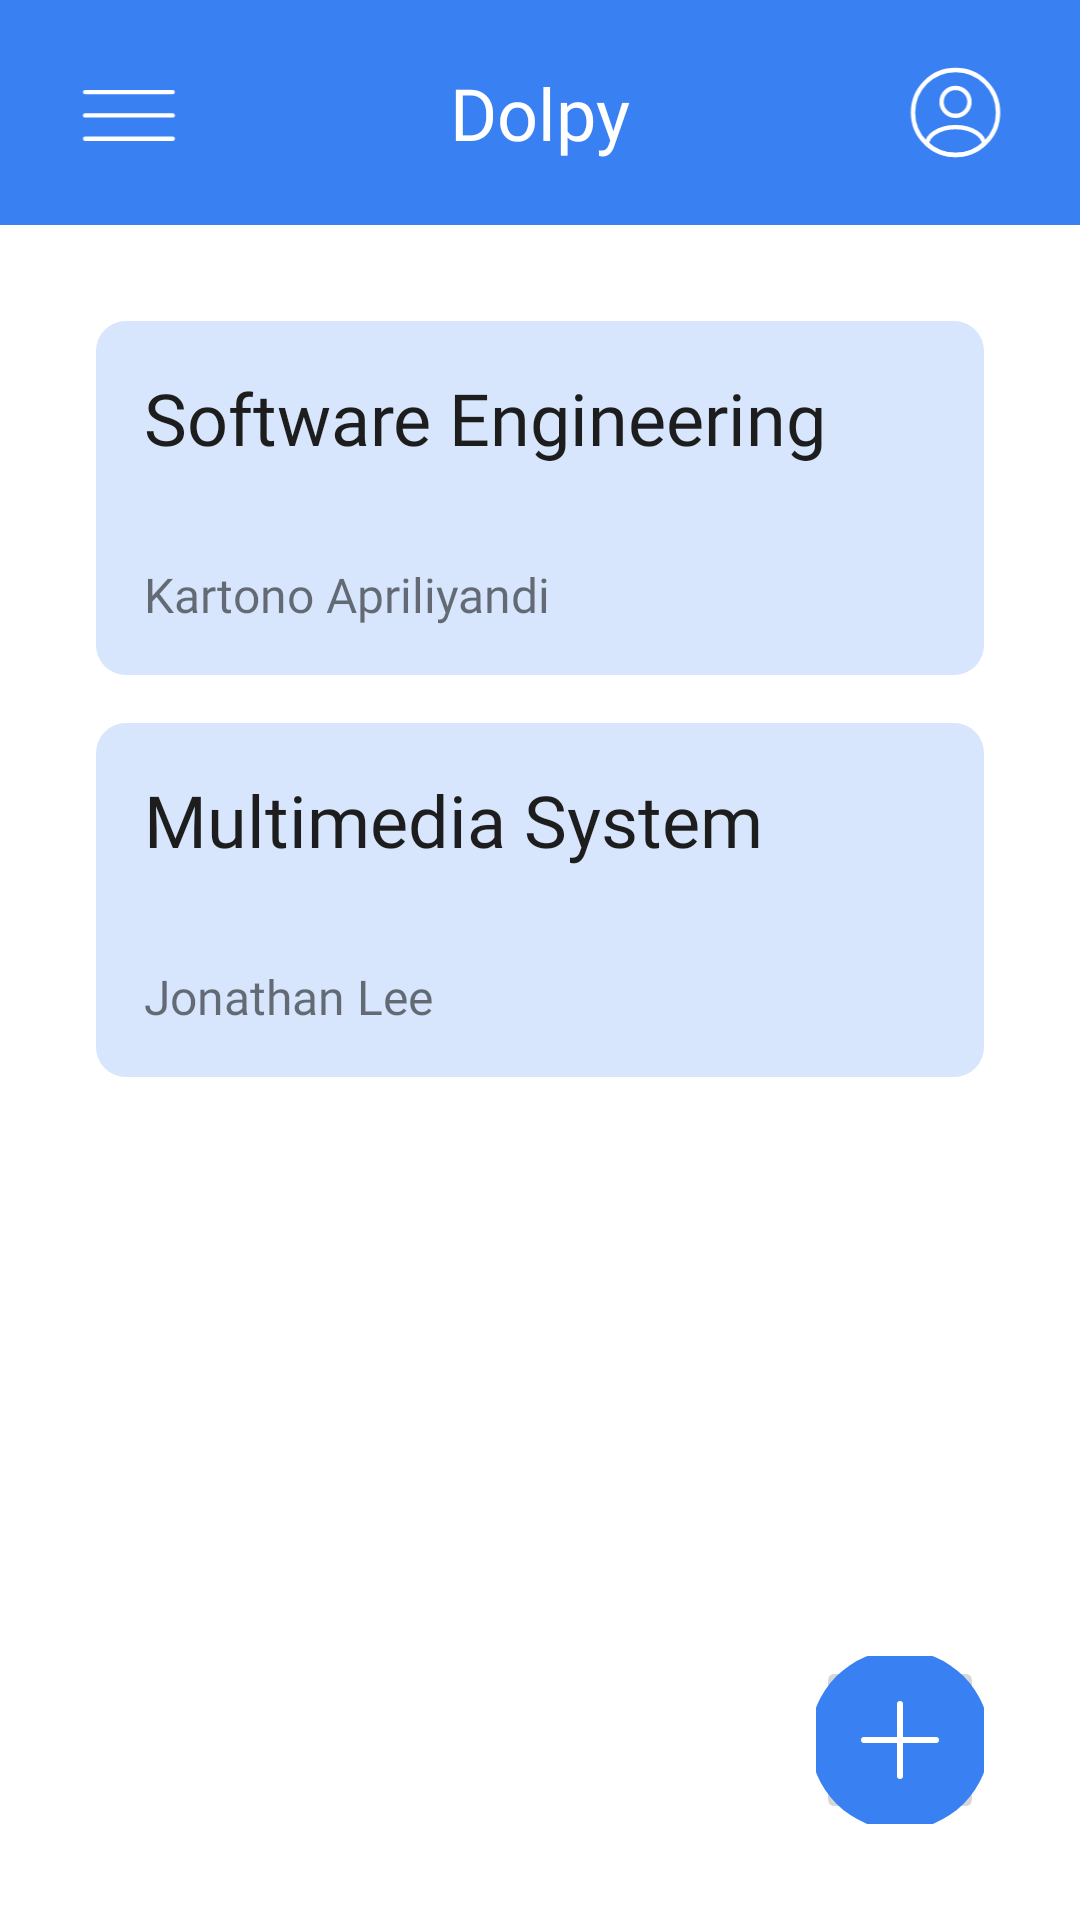

Icon click points for this 1080w x 1920h phone screenshot, format (x=x, y=y):
menu: (x=129, y=115)
profile circle: (x=955, y=112)
